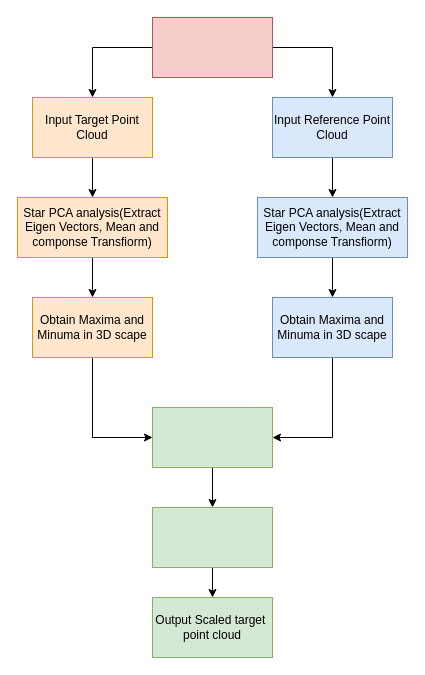
Some shapes in this 425 by 675 pixel diagram are drawn without their labels. The shapes that lost their labels are listed below. From the top down, each one's centre as x and y in pixels, then its label:
the point at 212,47: Start Scaling Process
the point at 212,437: Determine Scale based on data
the point at 212,537: Adjust and Scale target Point Cloud
